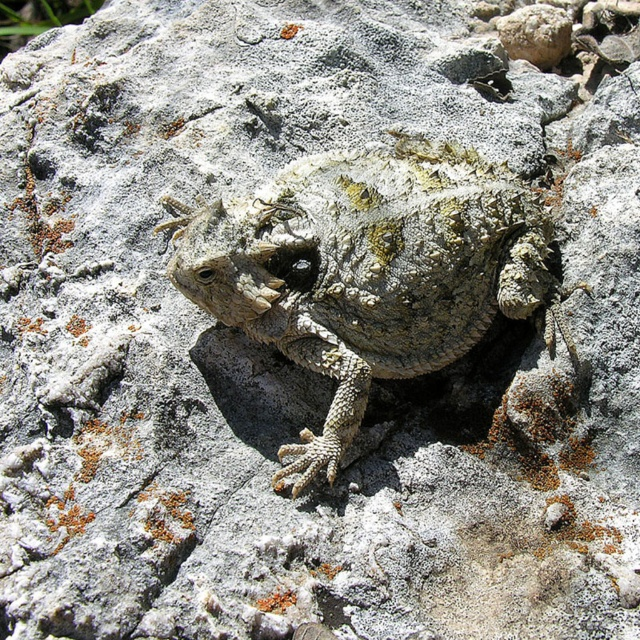Frog: (151, 138, 594, 498)
